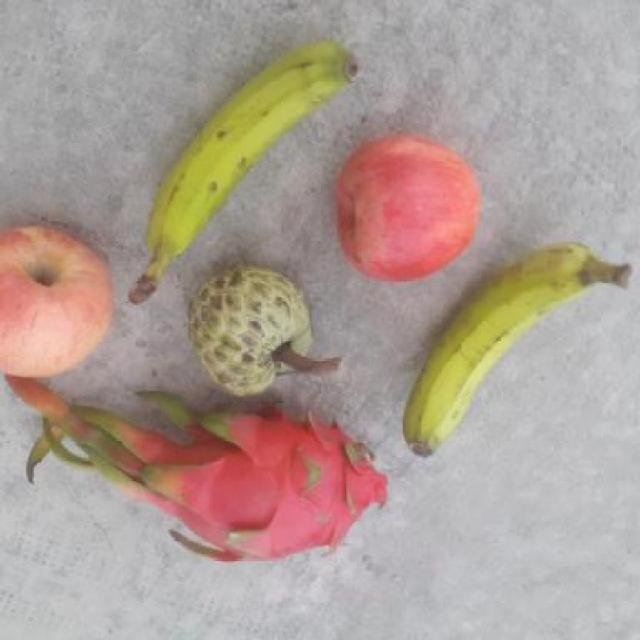apple: (335, 130, 483, 282), (0, 212, 125, 379)
banana: (122, 35, 373, 310), (404, 234, 639, 461)
dragon fruit: (136, 402, 396, 576)
sugar apple: (188, 258, 343, 397)
